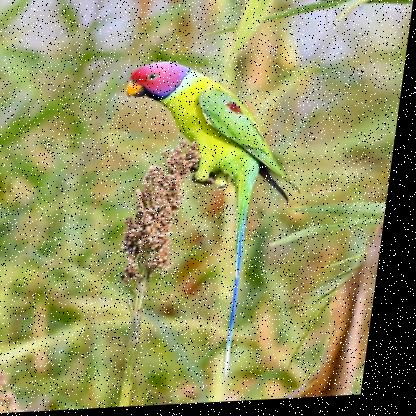Burung: (97, 56, 321, 384)
